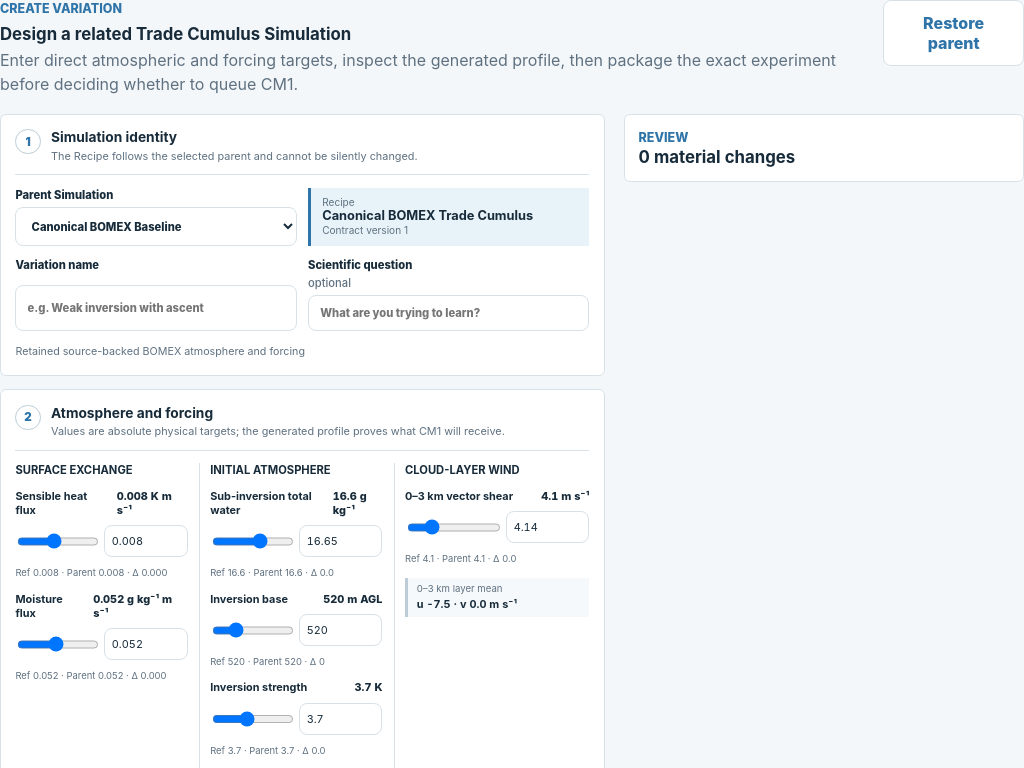
Test: TradeCumulusVariationEditor › switches parents without compounding the canonical Recipe transform
The width and height of the screenshot is (1024, 768).
Select "More Moisture" in the dropdown labelled "Parent Simulation" at (156, 227), box [15,207,297,246]
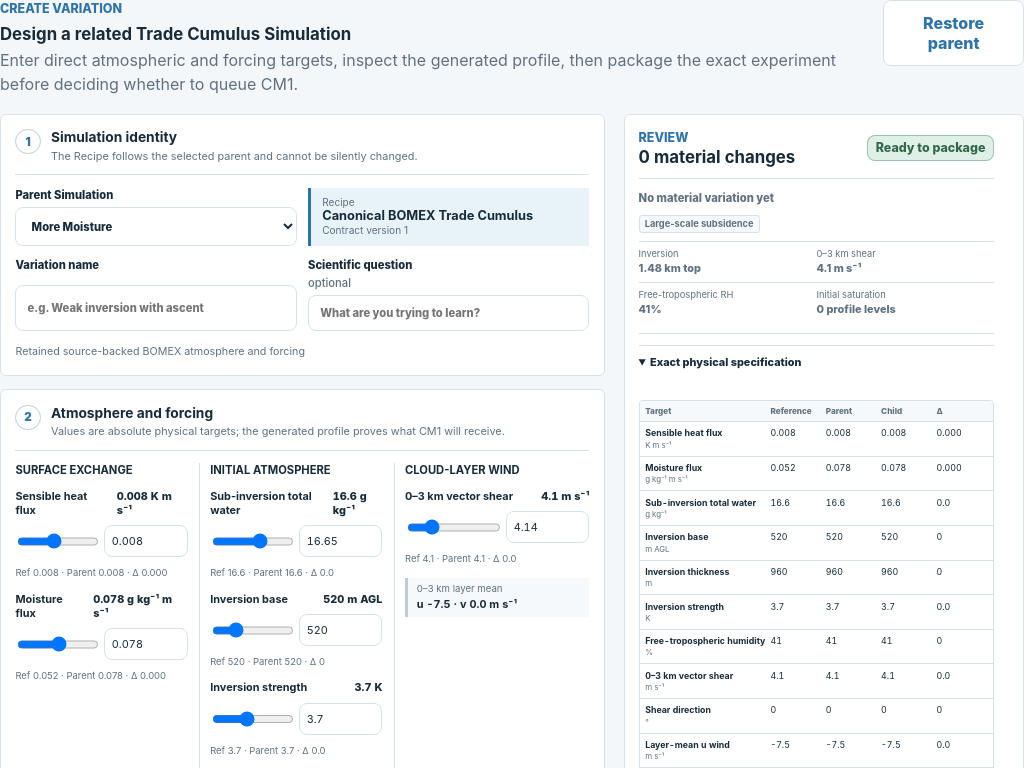
Expected: the label named "Moisture flux exact value" shows "Ref 0.052", [15,592,188,683]
Expected: the number field named "Moisture flux exact value" holds "0.078", [104,628,188,660]
Expected: the label named "Moisture flux exact value" shows "Parent 0.078", [15,592,188,683]
